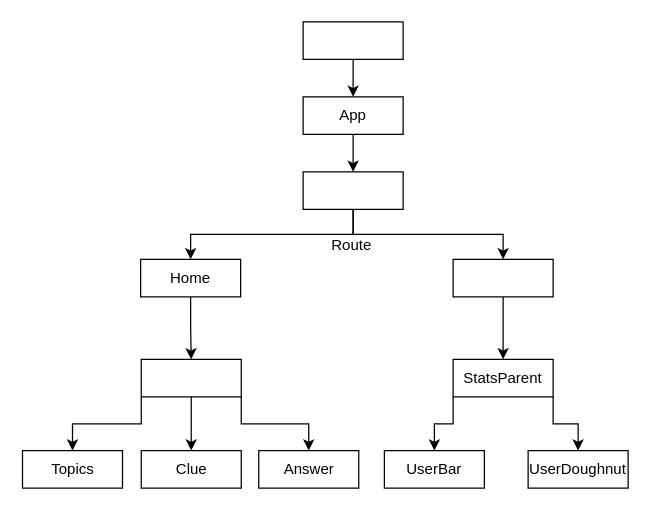
The diagram is 650 pixels wide and 510 high, and some of its shapes have lost their labels. Each missing label, with the centre of its shape:
"Components" belongs at point (352, 190).
"HomeParent" belongs at point (190, 377).
"Root" belongs at point (352, 40).
"Stats" belongs at point (502, 277).
